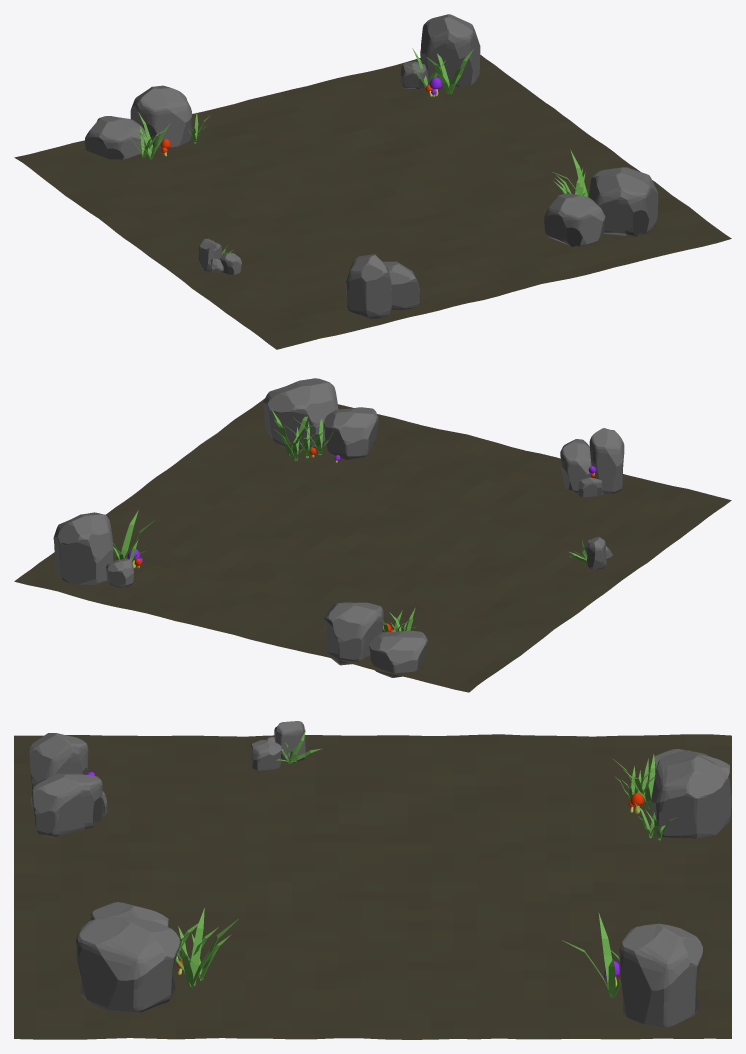
File: ステージ.fbx
3 renders of one model, top to bottom at view 1: azimuth 30°, elevation 25°; view 2: azimuth 150°, elevation 25°; view 3: azimuth 270°, elevation 25°, orthographic. The views are drawn at different scales.
Parts seen in each view (by area): view 1: 平面, 立方体.007, 立方体.010, 立方体, 立方体.012, 立方体.014, 立方体.009, 立方体.013, 立方体.011, 平面.006, 立方体.019; view 2: 平面, 立方体.010, 立方体.007, 立方体, 立方体.012, 立方体.009, 立方体.014, 立方体.013, 立方体.011, 立方体.019; view 3: 平面, 立方体.007, 立方体.010, 立方体, 立方体.013, 立方体.014, 平面.007, 立方体.012, 立方体.019, 立方体.018, 平面.006.
Boxes of the visible parts, x1,y1,x2,y2 form: 平面: (14, 55, 731, 349); 立方体.007: (589, 167, 658, 236); 立方体.010: (420, 14, 480, 86); 立方体: (130, 85, 192, 148); 立方体.012: (544, 193, 605, 247); 立方体.014: (345, 254, 391, 318); 立方体.009: (85, 116, 146, 159); 立方体.013: (383, 261, 419, 309); 立方体.011: (400, 61, 428, 89); 平面.006: (426, 49, 473, 94); 立方体.019: (198, 238, 221, 271); 平面: (14, 398, 731, 692); 立方体.010: (53, 512, 113, 584); 立方体.007: (263, 378, 338, 448); 立方体: (323, 602, 383, 665); 立方体.012: (323, 407, 378, 459); 立方体.009: (369, 630, 428, 677); 立方体.014: (589, 428, 624, 493); 立方体.013: (560, 439, 591, 492); 立方体.011: (106, 558, 133, 587); 立方体.019: (587, 536, 606, 570); 平面: (14, 734, 731, 1039); 立方体.007: (75, 918, 179, 1013); 立方体.010: (619, 923, 702, 1027); 立方体: (651, 750, 731, 838); 立方体.013: (32, 773, 102, 837); 立方体.014: (28, 733, 88, 815); 平面.007: (175, 908, 238, 987); 立方体.012: (90, 902, 168, 926); 立方体.019: (274, 721, 305, 762); 立方体.018: (250, 740, 281, 770); 平面.006: (562, 912, 621, 997).
Size of the model in its own units: 304 by 47.24 by 304.
